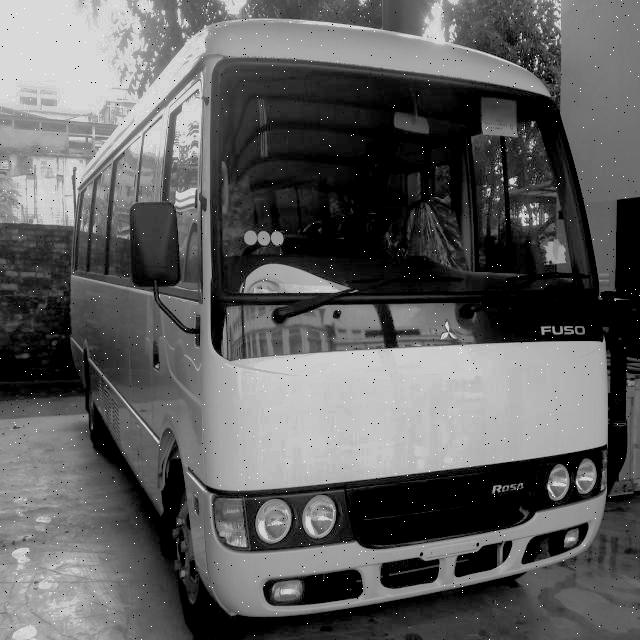Bus: (61, 1, 638, 639)
